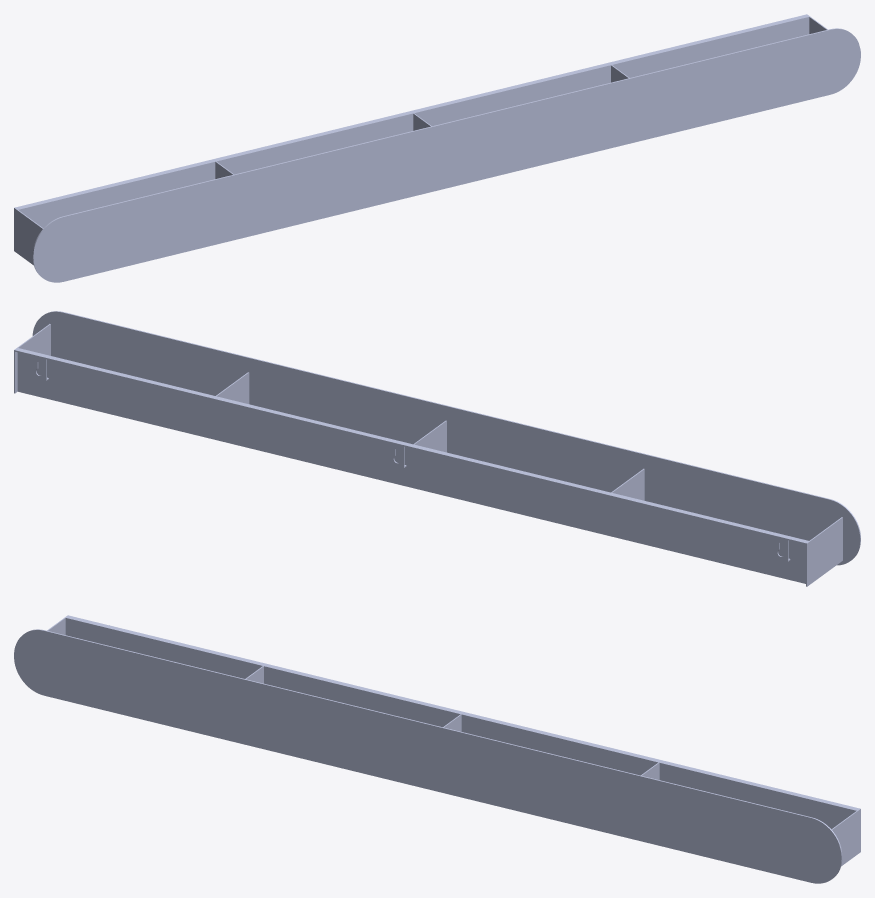
Rendered from round-mono.e9bcce23eb.glb.
The picture shows the model from 3 angles, top to bottom: view 1: azimuth 30°, elevation 25°; view 2: azimuth 150°, elevation 25°; view 3: azimuth 330°, elevation 25°; orthographic projection.
Visible parts, largest first — view 1: NAUO1; view 2: NAUO1; view 3: NAUO1.
Boxes of the visible parts, x1=… form: NAUO1: x1=14, y1=14, x2=860, y2=282; NAUO1: x1=14, y1=311, x2=860, y2=586; NAUO1: x1=14, y1=615, x2=860, y2=883.
Size of the model in its own units: 1.2 by 0.0899 by 0.092.
